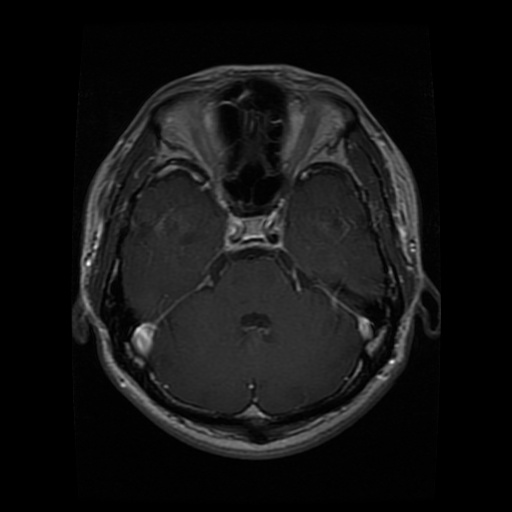glioma: (130, 193, 204, 255)
